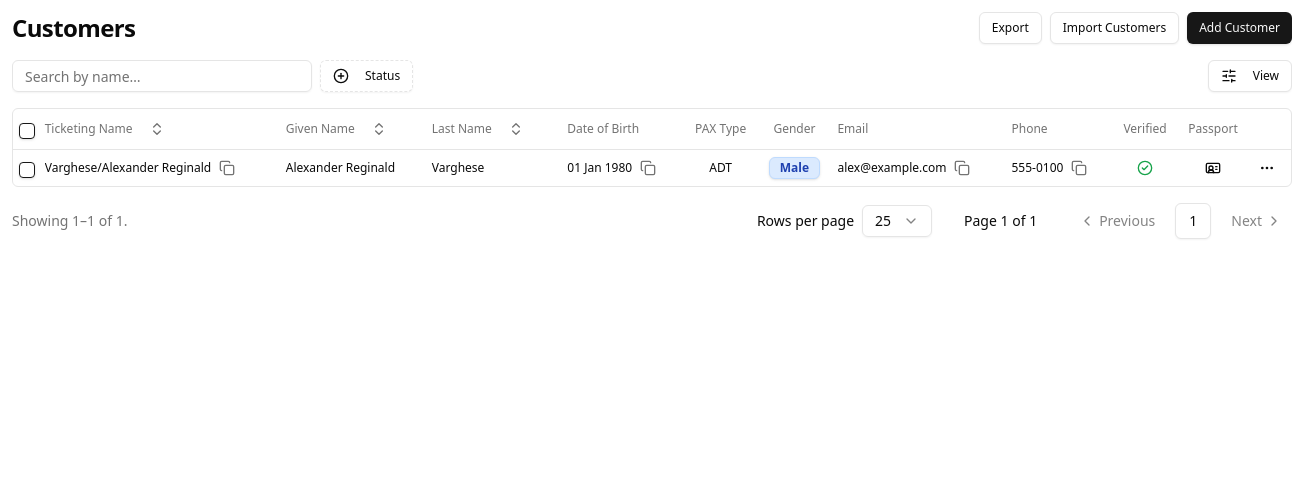
it: CustomersPage › toggles column visibility via the View dropdown
The image size is (1304, 488).
Expected: the text "alex@example.com" is shown, [837,160,946,176]
Click the button "View" at (1250, 76), box [1208,60,1292,92]
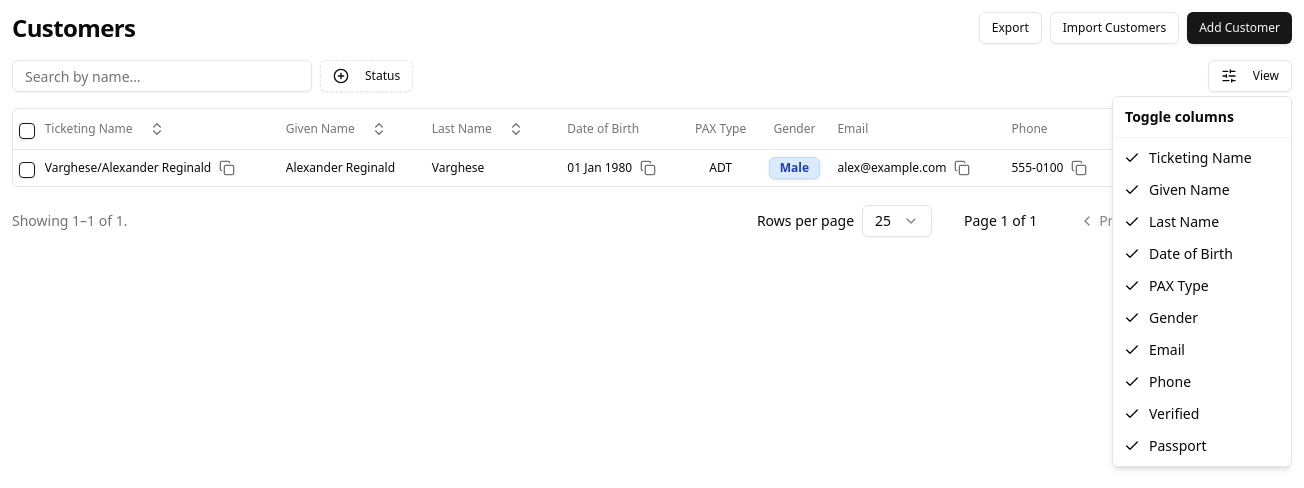
Click the menu item "Email" at (1154, 350), box [1124,340,1185,359]
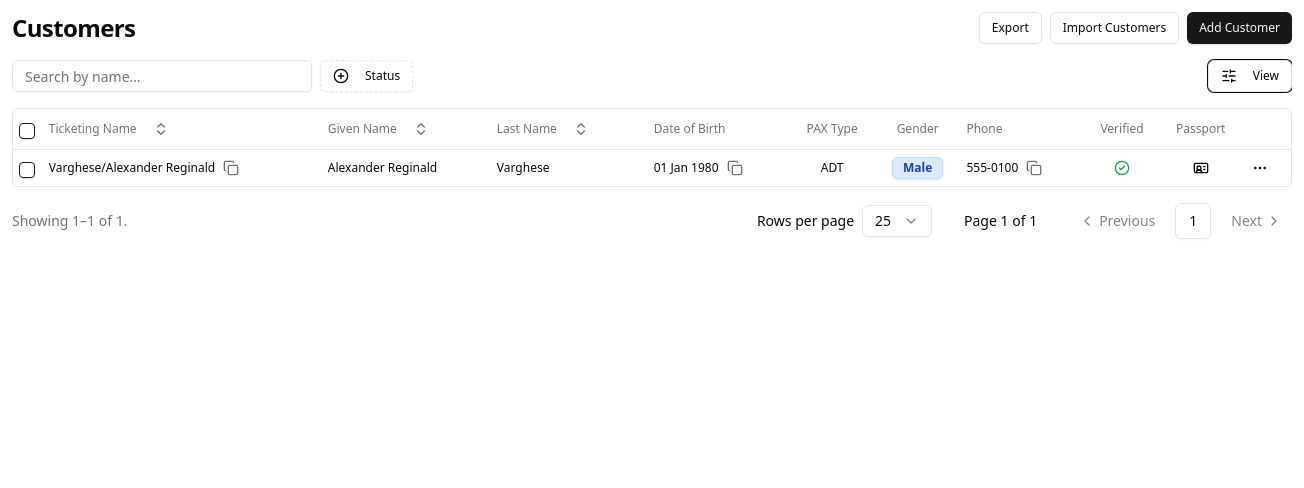
Expected: the text "alex@example.com" is gone
